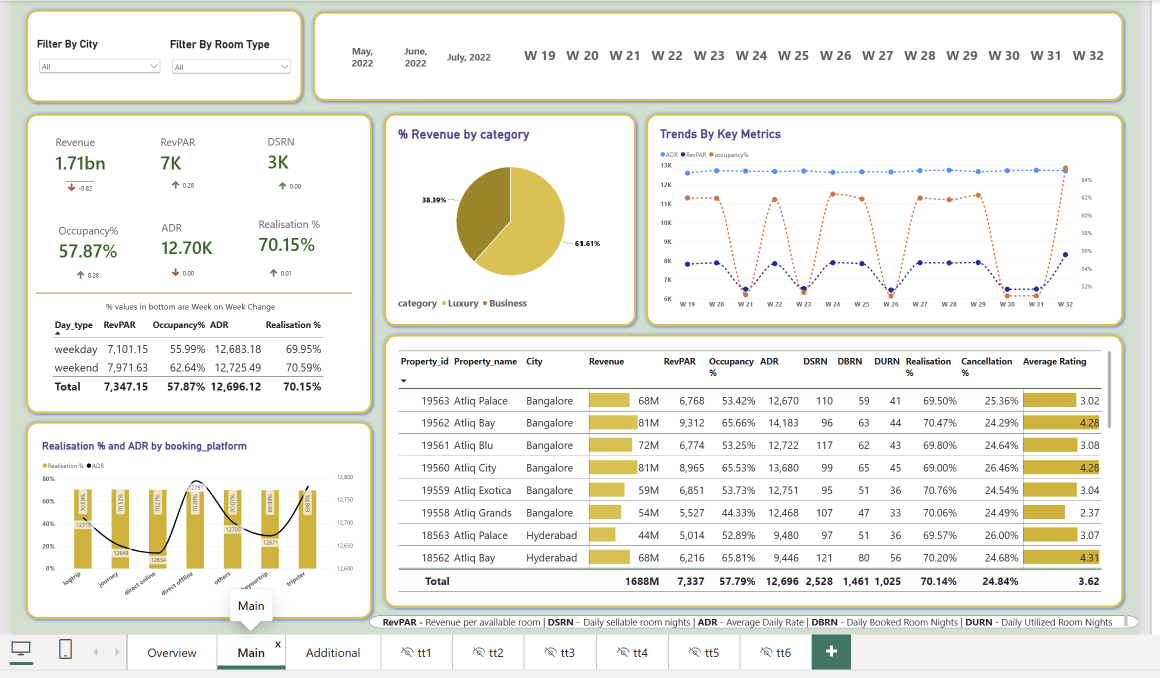

The page's visual inventory and layout, read from the dashboard file:
{"tool":"powerbi","page":{"name":"Main","canvas":[2560,1440],"ordinal":1},"visuals":[{"type":"shape","box":[23.8,10.6,647.3,229.8],"z":0},{"type":"shape","box":[676.3,15.9,1859.9,221.9],"z":1000},{"type":"shape","box":[1431.9,248.3,1104.3,502],"z":2000},{"type":"shape","box":[836.3,749.6,1698.2,637.5],"z":3000},{"type":"shape","box":[837.5,248.3,589.1,502],"z":4000},{"type":"shape","box":[22.9,247.3,805.7,698.6],"z":5000},{"type":"shape","box":[23.8,945.8,805.8,467.6],"z":6000},{"type":"tableEx","fields":{"Values":["dim_hotels.property_id","dim_hotels.property_name","dim_hotels.city","key_measure_table.Revenue","key_measure_table.RevPAR","key_measure_table.occupancy%","key_measure_table.ADR","key_measure_table.DSRN","key_measure_table.DBRN","key_measure_table.DURN","key_measure_table.Realisation %","key_measure_table.Cancellation %"]},"box":[861.8,780.2,1652.3,578.8],"z":7000},{"type":"slicer","title":"Filter By City","fields":{"Values":["dim_hotels.city"]},"box":[56.1,84.1,285.6,135.1],"z":8000},{"type":"slicer","title":"Filter By Room Type","fields":{"Values":["dim_rooms.room_class"]},"box":[359.5,84.1,280.5,132.6],"z":9000},{"type":"slicer","fields":{"Values":["dim_date.mmm yy"]},"box":[716,50.2,401.6,155.9],"z":10000},{"type":"slicer","fields":{"Values":["dim_date.week no"]},"box":[1133.4,37,1379.1,174.4],"z":11000},{"type":"tableEx","fields":{"Values":["key_measure_table.Revenue WoW change %"]},"box":[104.5,362.1,110,108],"z":12000},{"type":"pieChart","title":"% Revenue by category","fields":{"Category":["dim_hotels.category"],"Y":["key_measure_table.Revenue"]},"box":[861.3,272.1,544.2,449.1],"z":13000},{"type":"lineChart","title":"Trends By Key Metrics","fields":{"Category":["dim_date.week no","dim_date.mmm yy.Variation.Date Hierarchy.Month"],"Y":["key_measure_table.ADR","key_measure_table.RevPAR"],"Y2":["key_measure_table.occupancy%"]},"box":[1455.7,272.1,1019.8,449.1],"z":14000},{"type":"lineStackedColumnComboChart","fields":{"Category":["fact_bookings.booking_platform"],"Y":["key_measure_table.Realisation %"],"Y2":["key_measure_table.ADR"]},"box":[52.8,982.8,747.7,404.2],"z":15000},{"type":"tableEx","fields":{"Values":["dim_date.day_type","key_measure_table.RevPAR","key_measure_table.occupancy%","key_measure_table.ADR","key_measure_table.Realisation %"]},"box":[73.9,706.3,652.7,216.7],"z":16000},{"type":"tableEx","fields":{"Values":["key_measure_table.Revpar WoW change %"]},"box":[341.7,355.7,110,108],"z":17000},{"type":"tableEx","fields":{"Values":["key_measure_table.Occupancy WoW change %"]},"box":[124.9,559.7,110,108],"z":18000},{"type":"tableEx","fields":{"Values":["key_measure_table.ADR WoW change %"]},"box":[341.7,554.6,110,108],"z":19000},{"type":"tableEx","fields":{"Values":["key_measure_table.DSRN WoW change %"]},"box":[583.9,357,110,108],"z":20000},{"type":"tableEx","fields":{"Values":["key_measure_table.Realisation WoW change %"]},"box":[563.5,554.6,110,108],"z":21000},{"type":"cardVisual","fields":{"Data":["key_measure_table.occupancy%"]},"box":[89.2,485.7,181,127.5],"z":22000},{"type":"cardVisual","fields":{"Data":["key_measure_table.ADR"]},"box":[323.8,480.6,153,127.5],"z":23000},{"type":"cardVisual","fields":{"Data":["key_measure_table.Realisation %"]},"box":[543.1,466.6,181,140.2],"z":24000},{"type":"cardVisual","fields":{"Data":["key_measure_table.DSRN"]},"box":[563.5,285.6,152,124.9],"z":25000},{"type":"cardVisual","fields":{"Data":["key_measure_table.RevPAR"]},"box":[321.3,288.1,153,122.4],"z":26000},{"type":"cardVisual","fields":{"Data":["key_measure_table.Revenue"]},"box":[81.6,288.1,152,122],"z":27000},{"type":"textbox","box":[214.2,683.3,397.8,25.5],"z":28000},{"type":"shape","box":[53.5,622.2,719,89.2],"z":29000},{"type":"shape","box":[811.1,1397.6,1748.9,29.1],"z":30000},{"type":"textbox","box":[837.5,1397.6,1698.7,26.4],"z":31000}]}

Visuals, with their boxes on the page's 2560x1440 design canvas (x1, y1, x2, y2). These are canvas units, not pixel positions in the 1160x678 screenshot, which may show the page scaled, cropped or inside an application window:
shape: [left=24, top=11, right=671, bottom=240]
shape: [left=676, top=16, right=2536, bottom=238]
shape: [left=1432, top=248, right=2536, bottom=750]
shape: [left=836, top=750, right=2534, bottom=1387]
shape: [left=838, top=248, right=1427, bottom=750]
shape: [left=23, top=247, right=829, bottom=946]
shape: [left=24, top=946, right=830, bottom=1413]
tableEx - dim_hotels.property_id x dim_hotels.property_name: [left=862, top=780, right=2514, bottom=1359]
"Filter By City" slicer: [left=56, top=84, right=342, bottom=219]
"Filter By Room Type" slicer: [left=360, top=84, right=640, bottom=217]
slicer - dim_date.mmm yy: [left=716, top=50, right=1118, bottom=206]
slicer - dim_date.week no: [left=1133, top=37, right=2512, bottom=211]
tableEx - key_measure_table.Revenue WoW change %: [left=104, top=362, right=214, bottom=470]
"% Revenue by category" pieChart: [left=861, top=272, right=1406, bottom=721]
"Trends By Key Metrics" lineChart: [left=1456, top=272, right=2476, bottom=721]
lineStackedColumnComboChart - fact_bookings.booking_platform x key_measure_table.Realisation %: [left=53, top=983, right=800, bottom=1387]
tableEx - dim_date.day_type x key_measure_table.RevPAR: [left=74, top=706, right=727, bottom=923]
tableEx - key_measure_table.Revpar WoW change %: [left=342, top=356, right=452, bottom=464]
tableEx - key_measure_table.Occupancy WoW change %: [left=125, top=560, right=235, bottom=668]
tableEx - key_measure_table.ADR WoW change %: [left=342, top=555, right=452, bottom=663]
tableEx - key_measure_table.DSRN WoW change %: [left=584, top=357, right=694, bottom=465]
tableEx - key_measure_table.Realisation WoW change %: [left=564, top=555, right=674, bottom=663]
cardVisual - key_measure_table.occupancy%: [left=89, top=486, right=270, bottom=613]
cardVisual - key_measure_table.ADR: [left=324, top=481, right=477, bottom=608]
cardVisual - key_measure_table.Realisation %: [left=543, top=467, right=724, bottom=607]
cardVisual - key_measure_table.DSRN: [left=564, top=286, right=716, bottom=410]
cardVisual - key_measure_table.RevPAR: [left=321, top=288, right=474, bottom=410]
cardVisual - key_measure_table.Revenue: [left=82, top=288, right=234, bottom=410]
textbox: [left=214, top=683, right=612, bottom=709]
shape: [left=54, top=622, right=772, bottom=711]
shape: [left=811, top=1398, right=2560, bottom=1427]
textbox: [left=838, top=1398, right=2536, bottom=1424]
